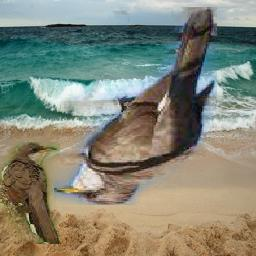Cuckoo: (55, 7, 218, 205), (0, 142, 60, 244)
